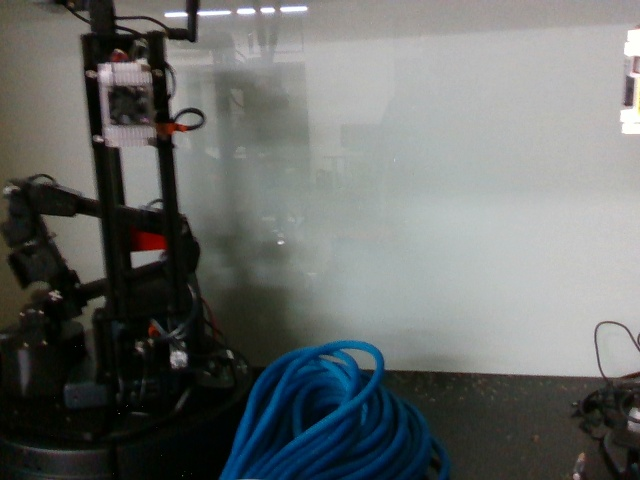rope: (210, 333, 453, 480)
